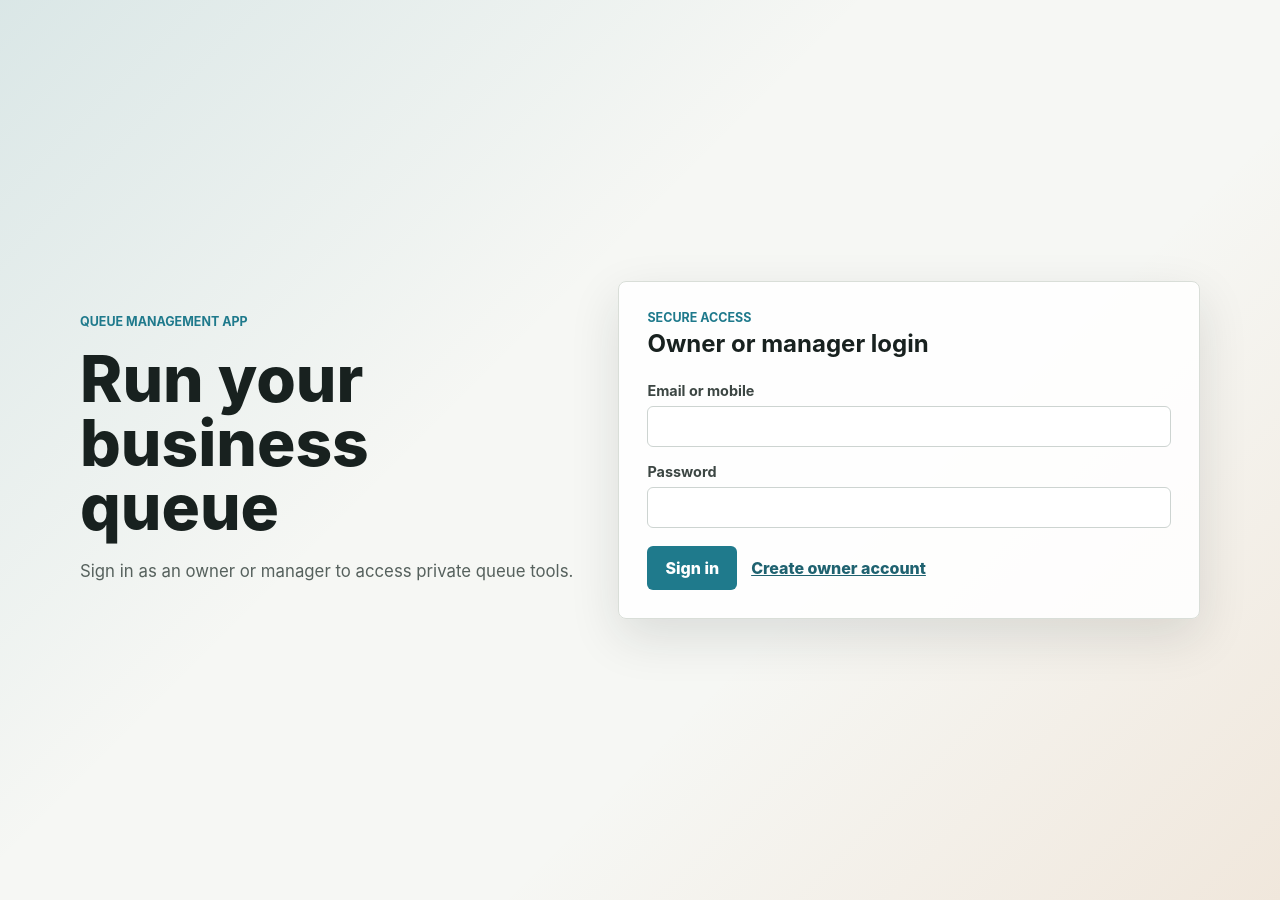
LoginComponent › should show invalid credential feedback when login is rejected
Step 1. Type "priya@example.com" into the field named "identifier" → (909, 426), box 648,406 -> 1171,447
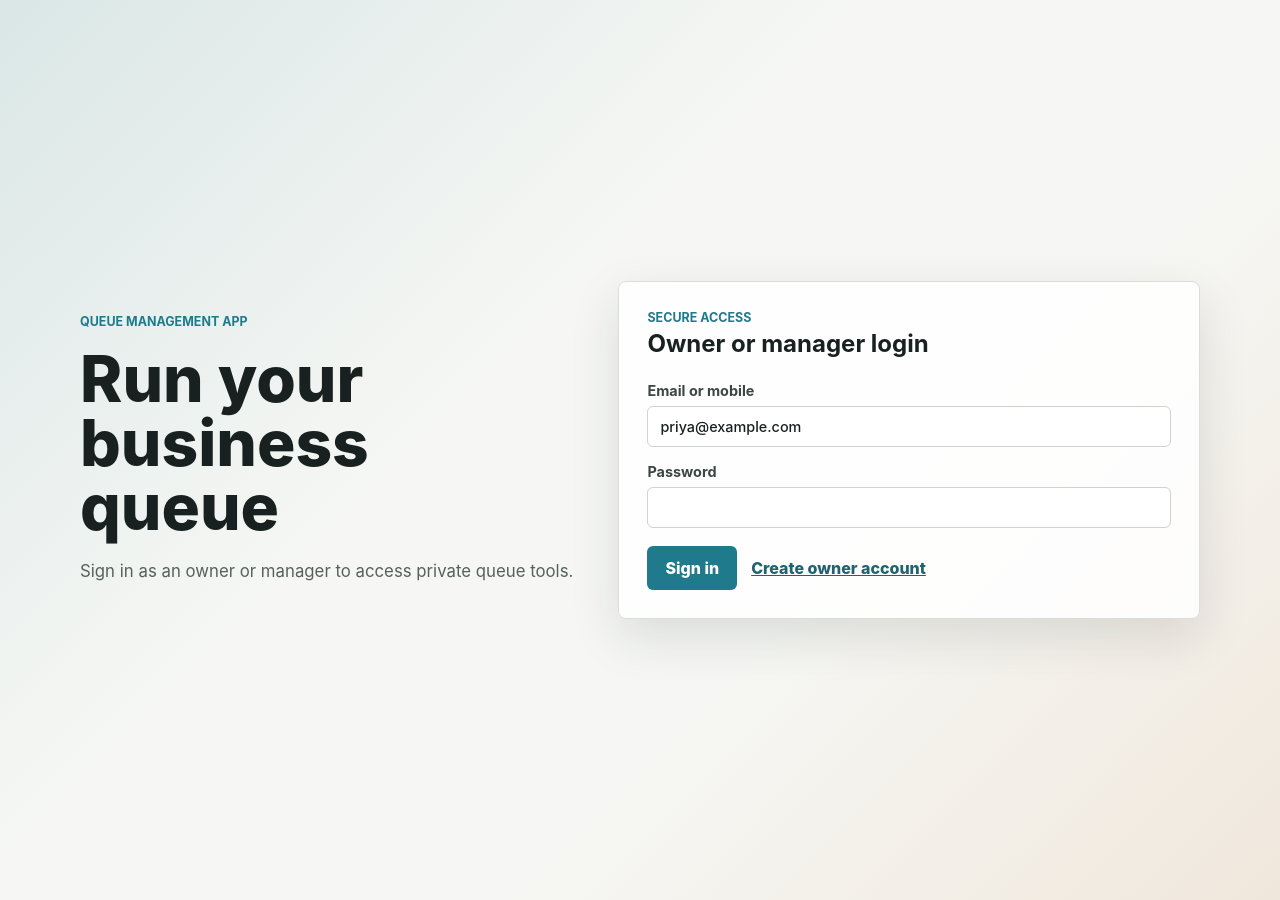
Step 2. Type "WrongPass123" into the password field named "password" → (909, 508), box 648,487 -> 1171,528
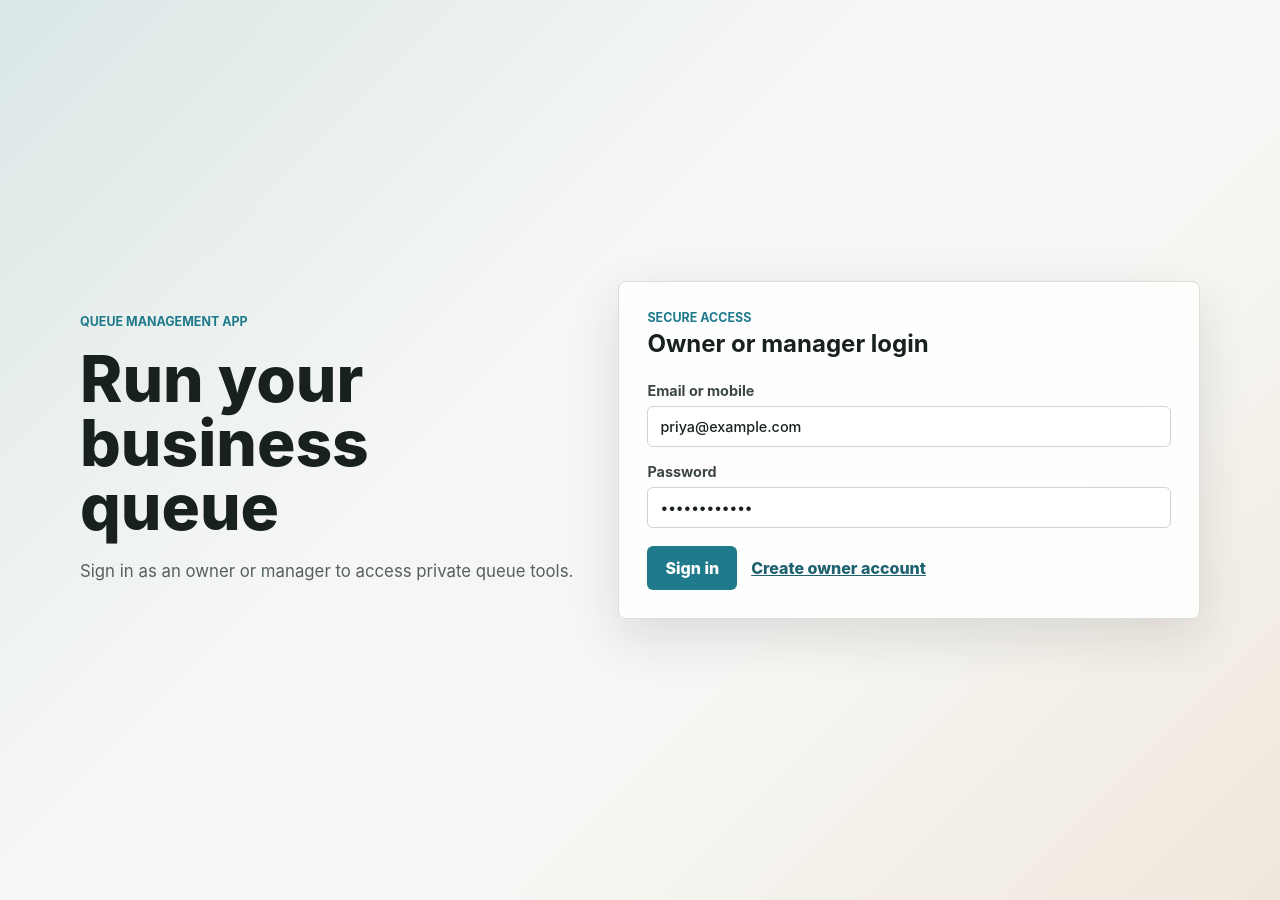
Step 3. Submit the form with class "login-form", box 648,382 -> 1171,590
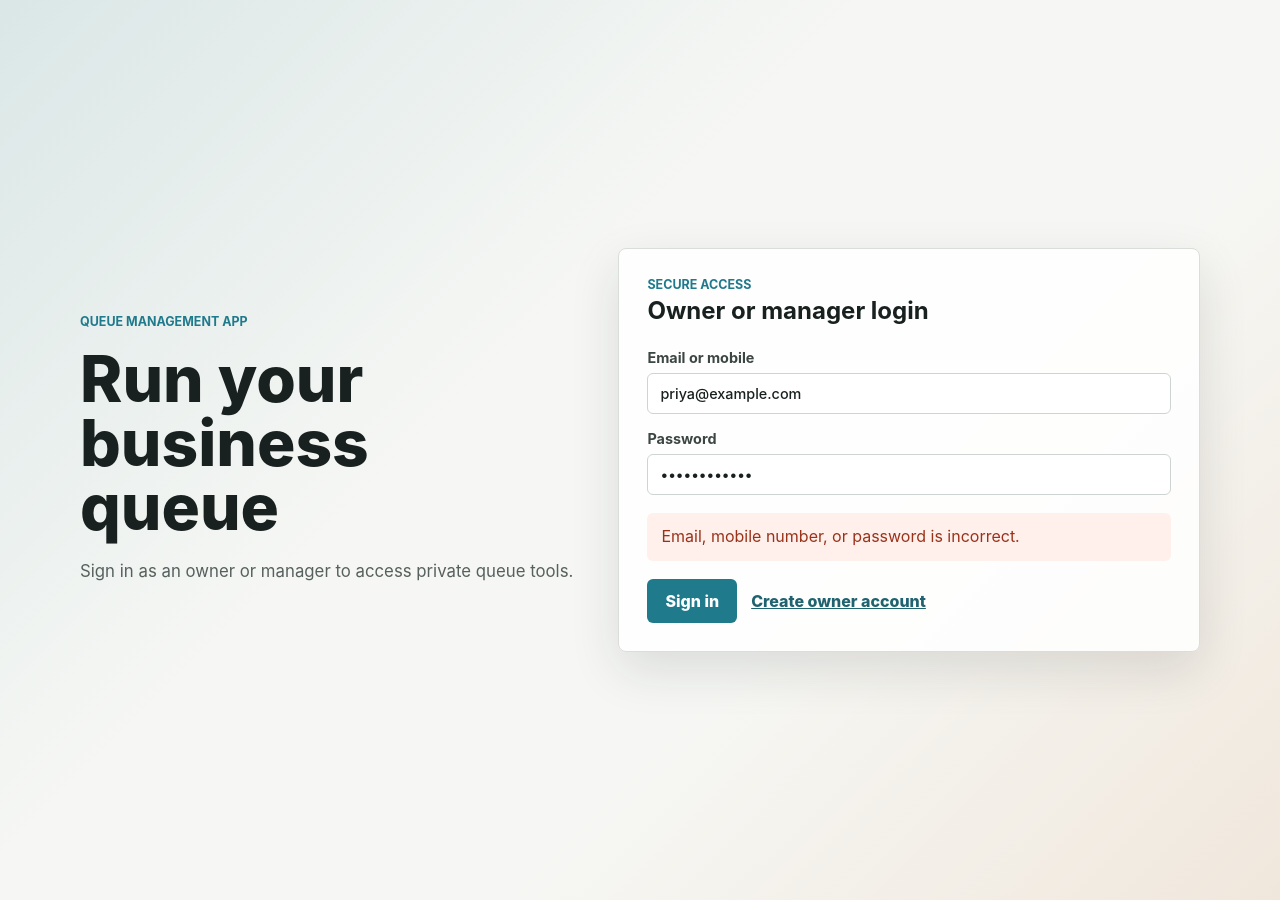
Now the message "Email, mobile number, or password is incorrect." is shown, box 648,513 -> 1171,561
